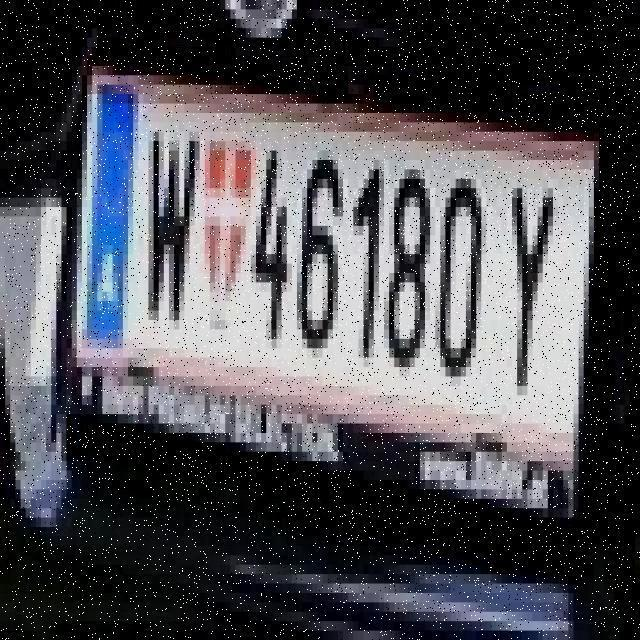LicensePlate: (73, 46, 606, 544)
